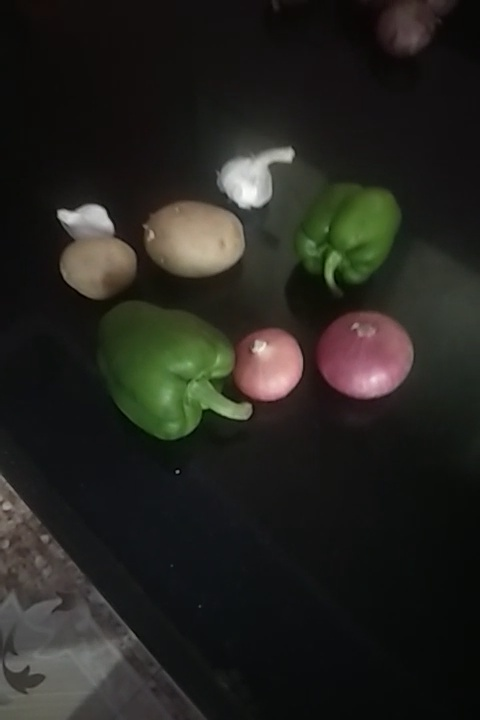capsicum: (101, 294, 252, 441), (297, 182, 398, 293)
garlic: (220, 143, 294, 211), (53, 200, 123, 238)
onion: (319, 309, 417, 403), (227, 316, 299, 397), (377, 1, 444, 61)
potato: (146, 206, 245, 285), (52, 236, 136, 296)
